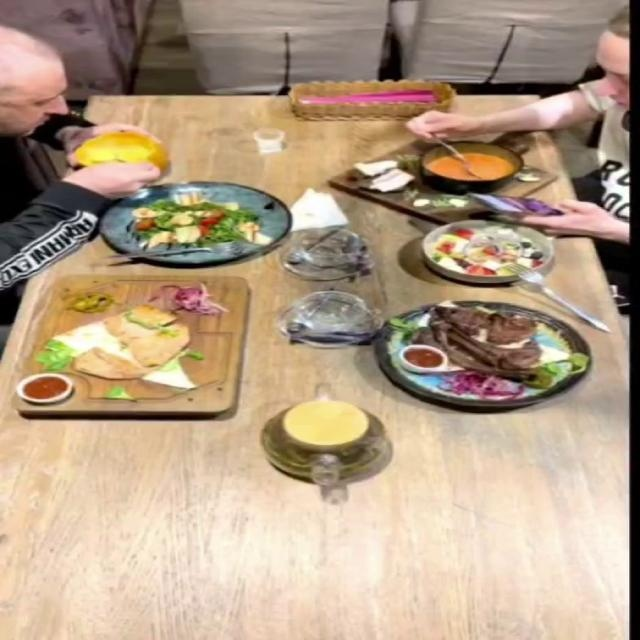meat: (13, 273, 255, 423), (372, 300, 593, 407)
salad: (97, 181, 291, 264), (420, 219, 557, 284)
soup: (327, 136, 562, 225), (75, 130, 168, 174)
tea: (249, 366, 413, 506)
